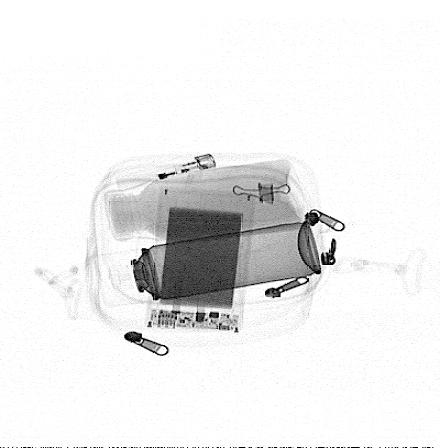Lighter: (117, 153, 217, 192)
Powerbank: (144, 187, 256, 334)
Sprayer: (96, 222, 321, 307)
